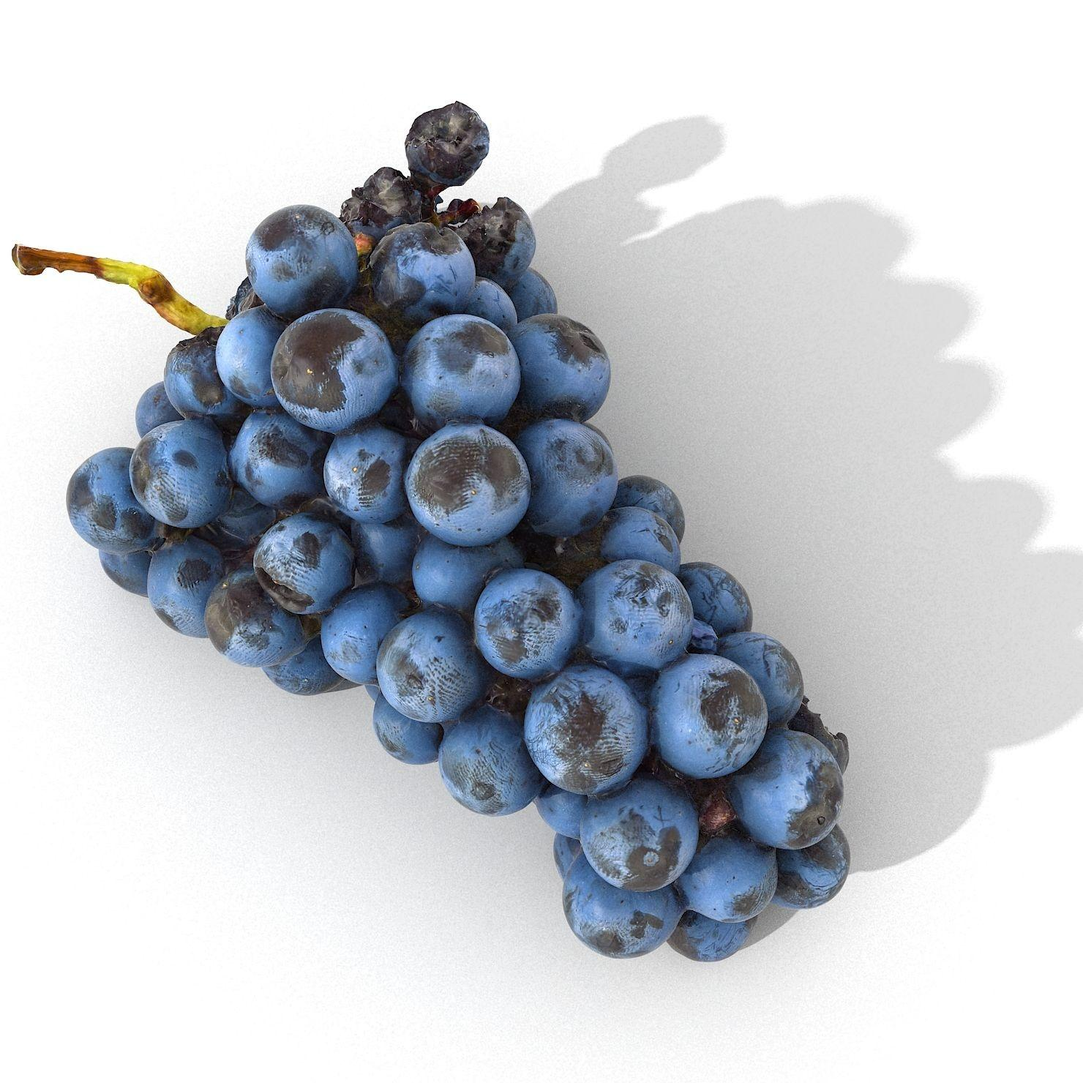Grape Rotten: (19, 99, 854, 963)
